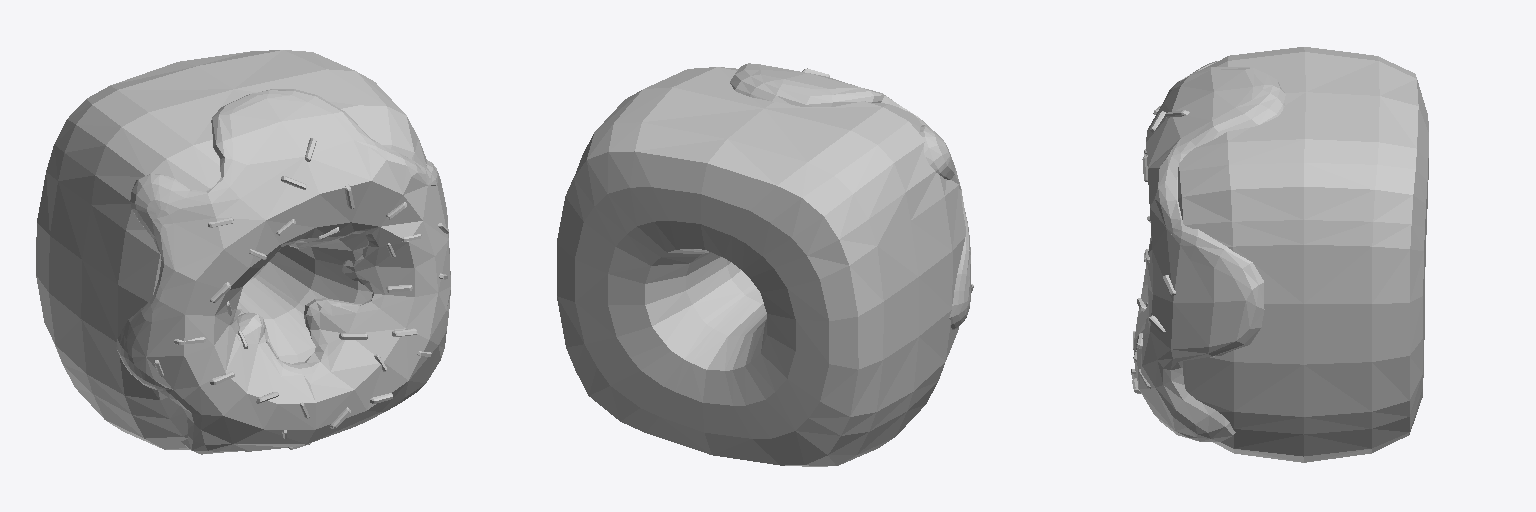
Rendered from DonutFinal.obj.
3 views of the same model, side by side, from view 1: azimuth 30°, elevation 25°; view 2: azimuth 150°, elevation 25°; view 3: azimuth 270°, elevation 25° (orthographic).
Parts seen in each view (by area): view 1: Donut.001_Mesh.026; view 2: Donut.001_Mesh.026; view 3: Donut.001_Mesh.026.
Boxes of the visible parts, x1,y1,x2,y2 form: Donut.001_Mesh.026: [36, 50, 450, 454]; Donut.001_Mesh.026: [557, 63, 973, 466]; Donut.001_Mesh.026: [1131, 47, 1428, 462].
Size of the model in its own units: 21.4 by 20.92 by 16.84.